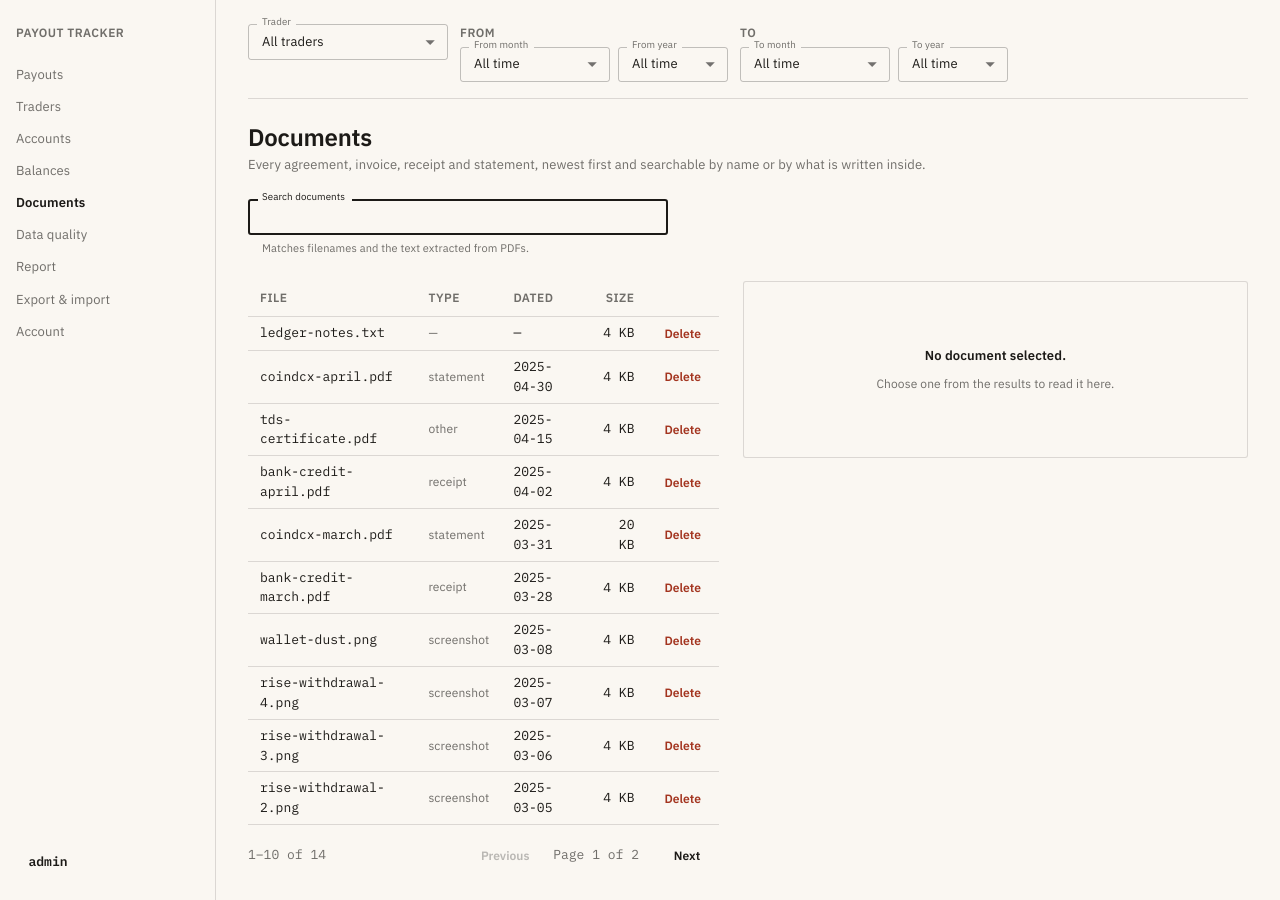
Test: the document register (F31) › narrows to what matched, and starts again at the first page
Expected: the text "coindcx-march.pdf" is shown, x1=260 y1=526 x2=393 y2=543
Click the button "Next" at [687, 856], box x1=655 y1=841 x2=719 y2=870
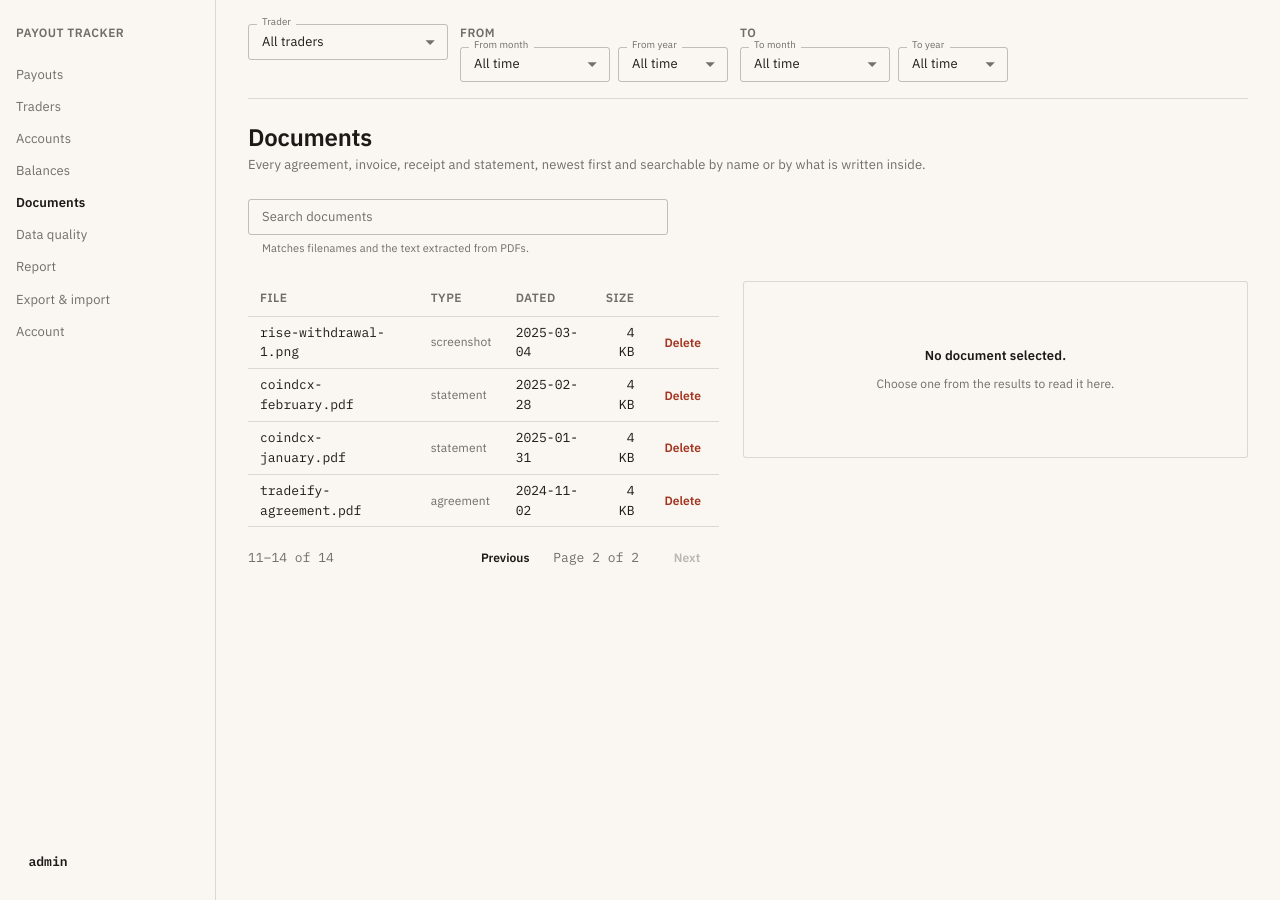
Expected: the text "11–14 of 14" is shown, x1=248 y1=548 x2=334 y2=567
Type "rise" into the field labelled "Search documents" at [458, 217], box x1=248 y1=199 x2=668 y2=235
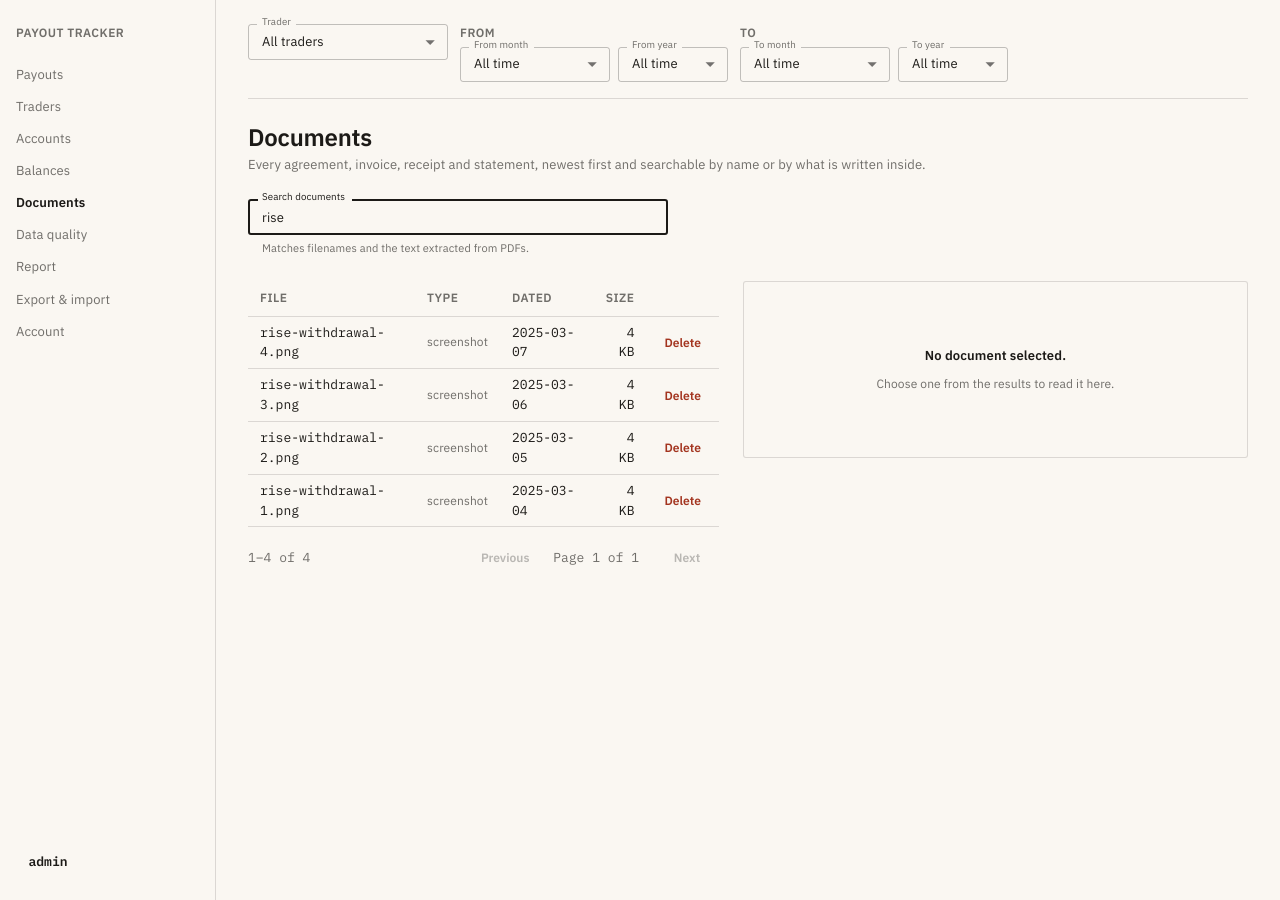
Expected: the text "rise-withdrawal-1.png" is shown, x1=260 y1=482 x2=385 y2=518
Expected: the text "1–4 of 4" is shown, x1=248 y1=548 x2=310 y2=567
